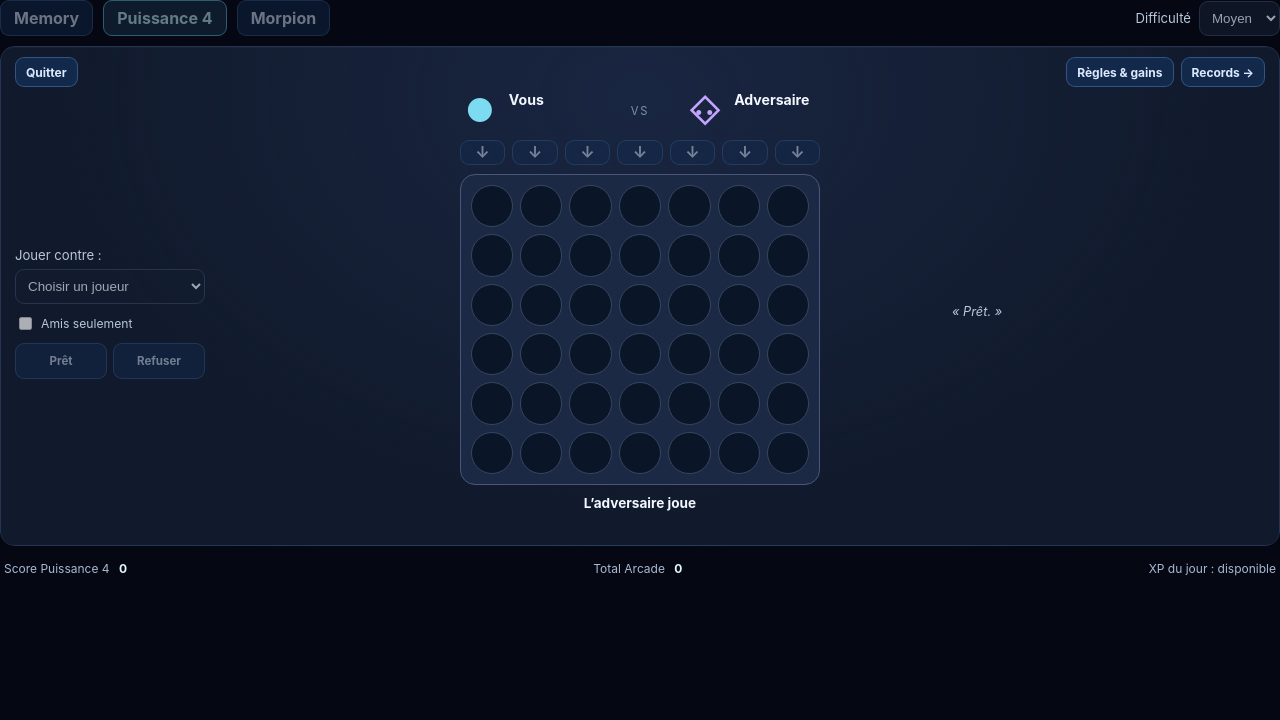
it: Arcade interface and session lifecycle › queues Quitter behind an ADVANCE and respects its FINISHED outcome
Expected: the element showing "Quitter Règles & gains Records →" is shown, [15,57,1265,87]
What coordinates should you click on to do the following:
click the button "Quitter"
I would click on:
 (46, 72)
Its box is [15,57,78,87].
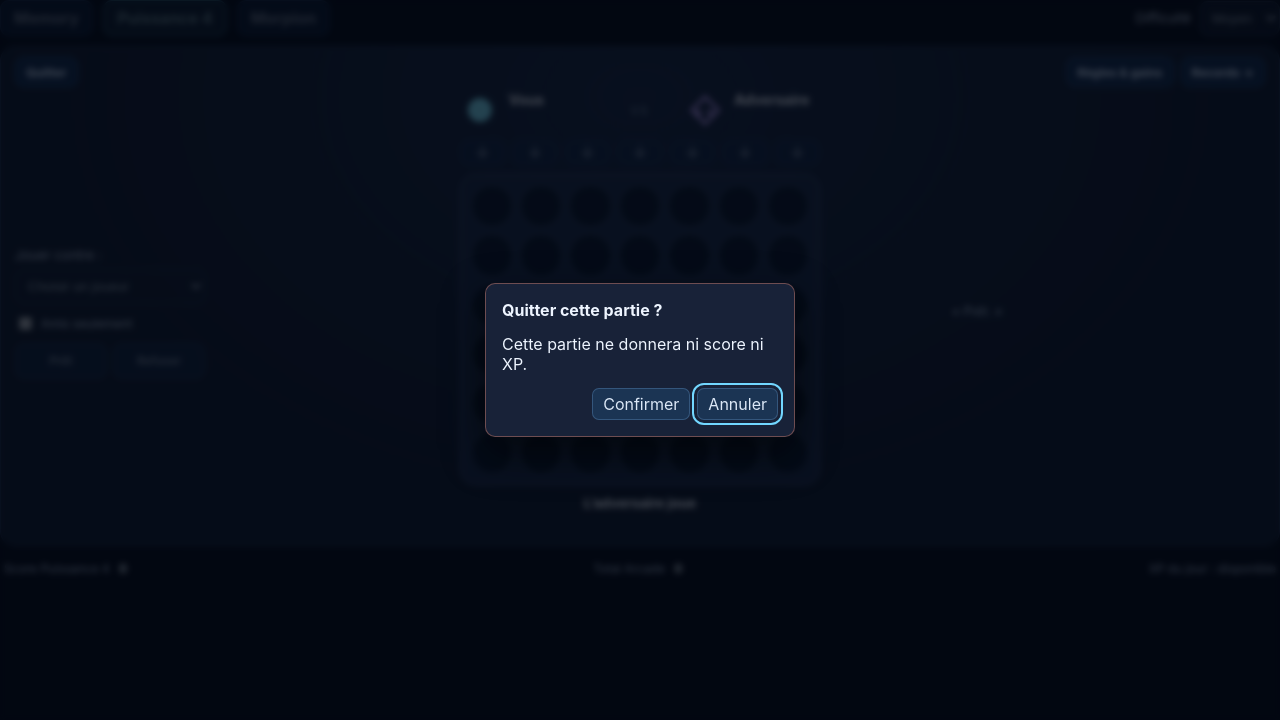
What coordinates should you click on to do the following:
click the button "Confirmer"
I would click on:
 (641, 404)
Its box is [592,388,690,420].
Wait 3000 ms
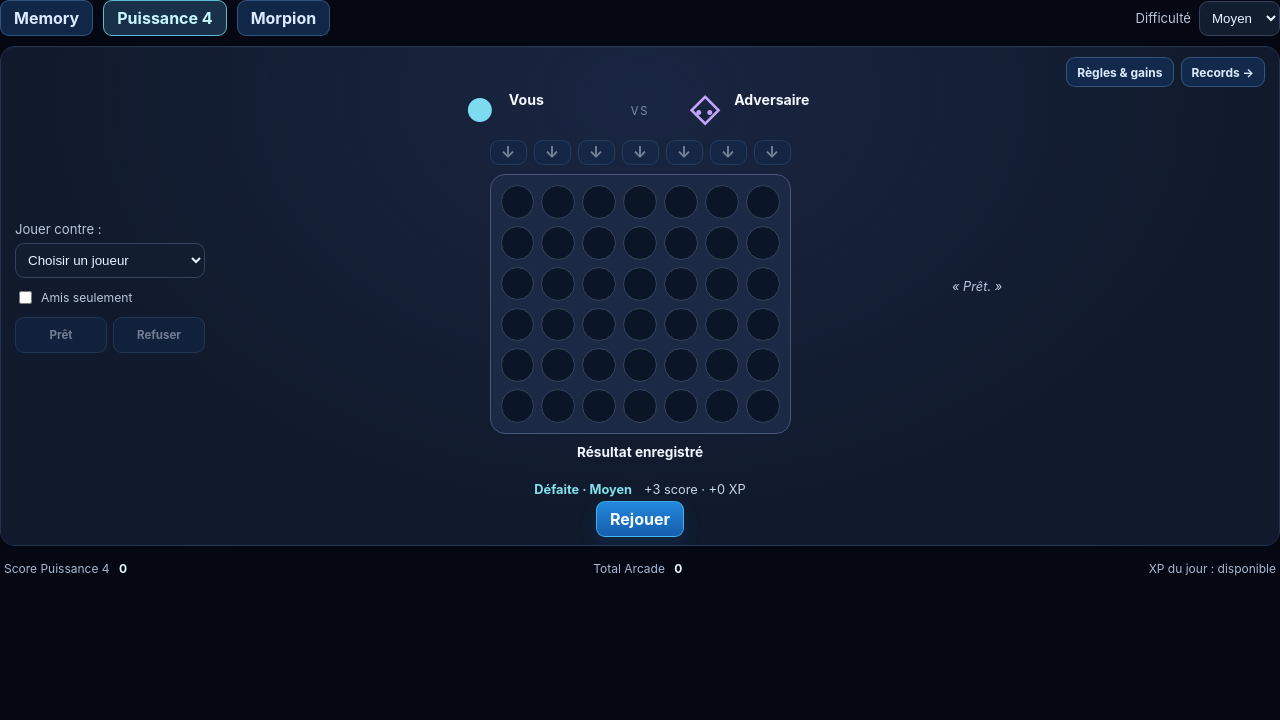
Now the text "+3 score · +0 XP" is shown, box [644,482,746,497]
